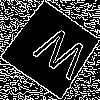W: (26, 24, 92, 89)
